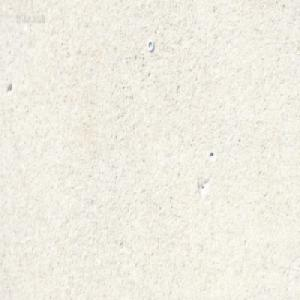Washer: (147, 39, 153, 51)
